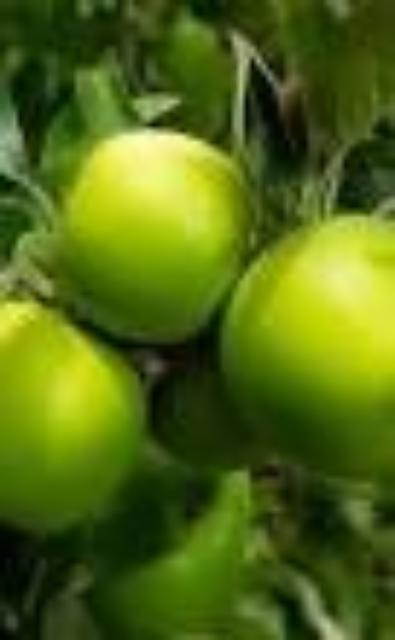Apple: (223, 216, 395, 472), (64, 130, 245, 342), (0, 301, 140, 529), (91, 439, 213, 640)
